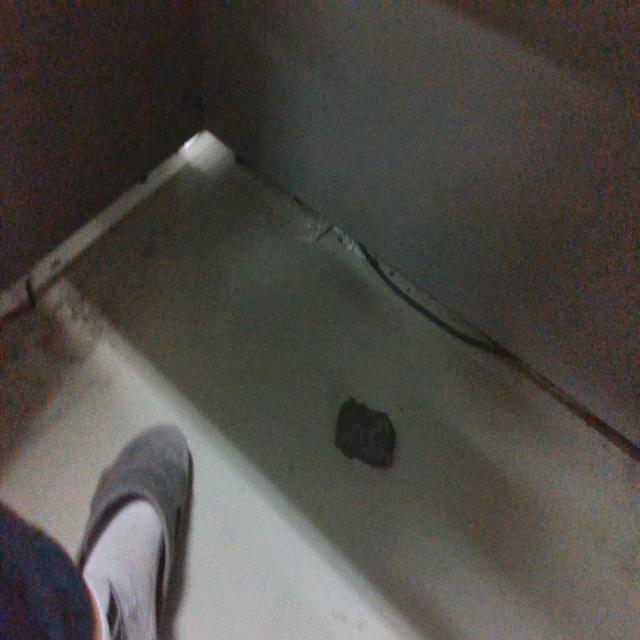stone: (334, 396, 396, 468)
